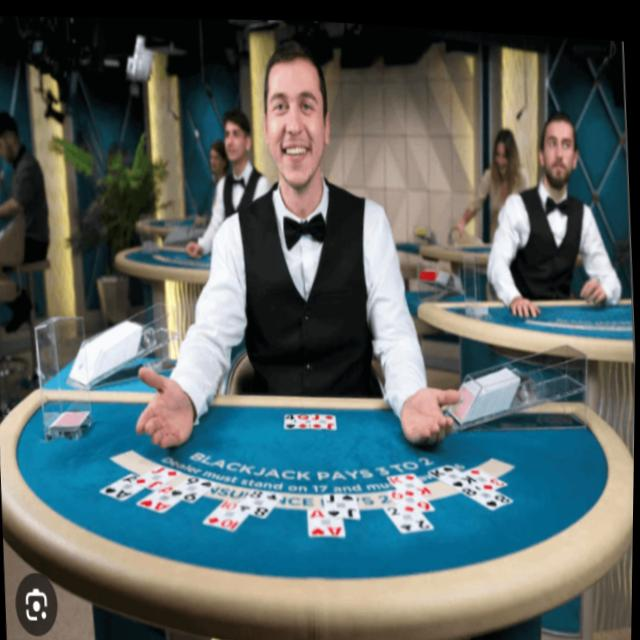Card-10: (204, 492, 249, 529)
Card-2: (386, 498, 434, 529)
Card-3: (467, 460, 508, 484)
Card-4: (285, 409, 298, 425)
Card-6: (389, 483, 436, 506)
Card-8: (241, 483, 283, 516), (462, 477, 512, 504)
Card-9: (171, 470, 219, 499)
Card-A: (99, 469, 144, 501), (137, 483, 180, 512), (307, 502, 347, 533)
Card-J: (137, 463, 180, 488), (324, 488, 361, 514), (314, 409, 338, 425)
Card-K: (431, 456, 475, 483), (390, 466, 432, 492)
Card-Q: (298, 409, 313, 424)
